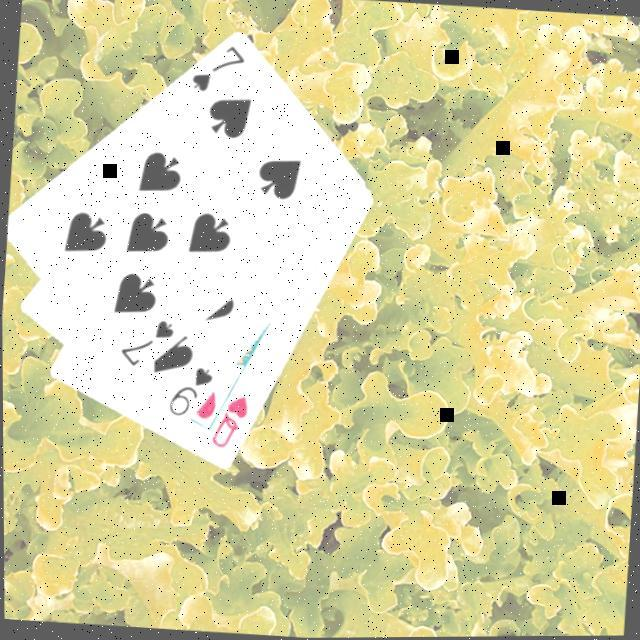7S: (116, 316, 179, 375), (188, 41, 251, 100)
9S: (165, 364, 218, 424)
QH: (208, 392, 252, 456)
